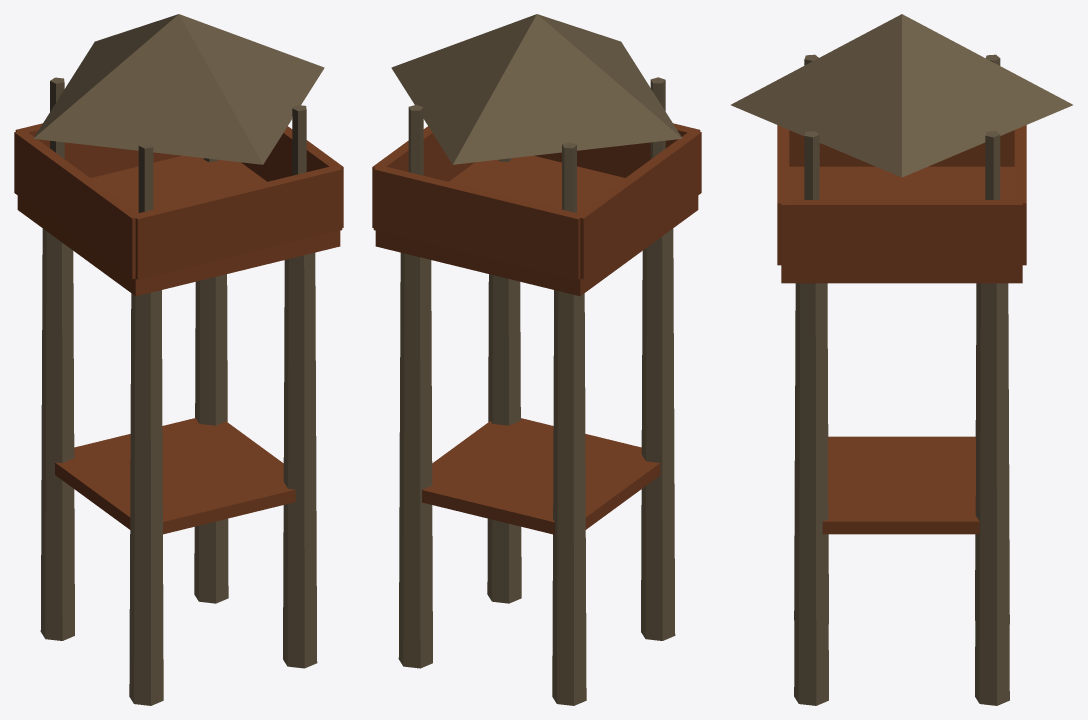
The model's file is ratfolk_tower_broken.glb.
3 views of the same model, side by side, from view 1: azimuth 30°, elevation 25°; view 2: azimuth 150°, elevation 25°; view 3: azimuth 270°, elevation 25° (orthographic). The views are drawn at different scales.
Parts seen in each view (by area): view 1: ratfolk_tower_piece3, ratfolk_tower_piece2, ratfolk_tower_piece7, ratfolk_tower_piece8, ratfolk_tower_piece12, ratfolk_tower_piece6, ratfolk_tower_piece5, ratfolk_tower_piece1, ratfolk_tower_piece0, ratfolk_tower_piece9, ratfolk_tower_piece10, ratfolk_tower_piece4; view 2: ratfolk_tower_piece12, ratfolk_tower_piece2, ratfolk_tower_piece8, ratfolk_tower_piece6, ratfolk_tower_piece7, ratfolk_tower_piece3, ratfolk_tower_piece0, ratfolk_tower_piece5, ratfolk_tower_piece9, ratfolk_tower_piece1, ratfolk_tower_piece11, ratfolk_tower_piece4 (+1 smaller); view 3: ratfolk_tower_piece6, ratfolk_tower_piece8, ratfolk_tower_piece2, ratfolk_tower_piece3, ratfolk_tower_piece12, ratfolk_tower_piece1, ratfolk_tower_piece7, ratfolk_tower_piece0, ratfolk_tower_piece5, ratfolk_tower_piece9, ratfolk_tower_piece11, ratfolk_tower_piece10.
Part boxes in pixels (x1=…): ratfolk_tower_piece3: x1=103, y1=97, x2=343, y2=430; ratfolk_tower_piece2: x1=110, y1=321, x2=317, y2=705; ratfolk_tower_piece7: x1=33, y1=25, x2=300, y2=269; ratfolk_tower_piece8: x1=40, y1=380, x2=277, y2=640; ratfolk_tower_piece12: x1=14, y1=32, x2=242, y2=486; ratfolk_tower_piece6: x1=50, y1=14, x2=324, y2=202; ratfolk_tower_piece5: x1=18, y1=101, x2=129, y2=516; ratfolk_tower_piece1: x1=153, y1=139, x2=332, y2=465; ratfolk_tower_piece0: x1=162, y1=291, x2=227, y2=430; ratfolk_tower_piece9: x1=97, y1=199, x2=287, y2=372; ratfolk_tower_piece10: x1=114, y1=468, x2=286, y2=665; ratfolk_tower_piece4: x1=245, y1=109, x2=306, y2=468; ratfolk_tower_piece12: x1=372, y1=112, x2=590, y2=570; ratfolk_tower_piece2: x1=470, y1=257, x2=674, y2=627; ratfolk_tower_piece8: x1=398, y1=439, x2=589, y2=705; ratfolk_tower_piece6: x1=389, y1=14, x2=575, y2=177; ratfolk_tower_piece7: x1=520, y1=16, x2=682, y2=271; ratfolk_tower_piece3: x1=488, y1=29, x2=701, y2=310; ratfolk_tower_piece0: x1=399, y1=323, x2=489, y2=531; ratfolk_tower_piece5: x1=571, y1=166, x2=640, y2=526; ratfolk_tower_piece9: x1=488, y1=157, x2=679, y2=324; ratfolk_tower_piece1: x1=431, y1=150, x2=522, y2=443; ratfolk_tower_piece11: x1=585, y1=466, x2=675, y2=640; ratfolk_tower_piece4: x1=485, y1=161, x2=600, y2=446; ratfolk_tower_piece6: x1=805, y1=14, x2=1013, y2=278; ratfolk_tower_piece8: x1=811, y1=395, x2=1009, y2=705; ratfolk_tower_piece2: x1=794, y1=283, x2=871, y2=705; ratfolk_tower_piece3: x1=731, y1=54, x2=835, y2=454; ratfolk_tower_piece12: x1=961, y1=73, x2=1072, y2=488; ratfolk_tower_piece1: x1=804, y1=144, x2=961, y2=534; ratfolk_tower_piece7: x1=803, y1=22, x2=987, y2=199; ratfolk_tower_piece0: x1=976, y1=353, x2=1009, y2=562; ratfolk_tower_piece5: x1=868, y1=135, x2=1003, y2=459; ratfolk_tower_piece9: x1=809, y1=148, x2=850, y2=423; ratfolk_tower_piece11: x1=828, y1=442, x2=922, y2=623; ratfolk_tower_piece10: x1=810, y1=455, x2=938, y2=705.
Bounding box in the file's own units: 1.71 × 3.55 × 1.71.
